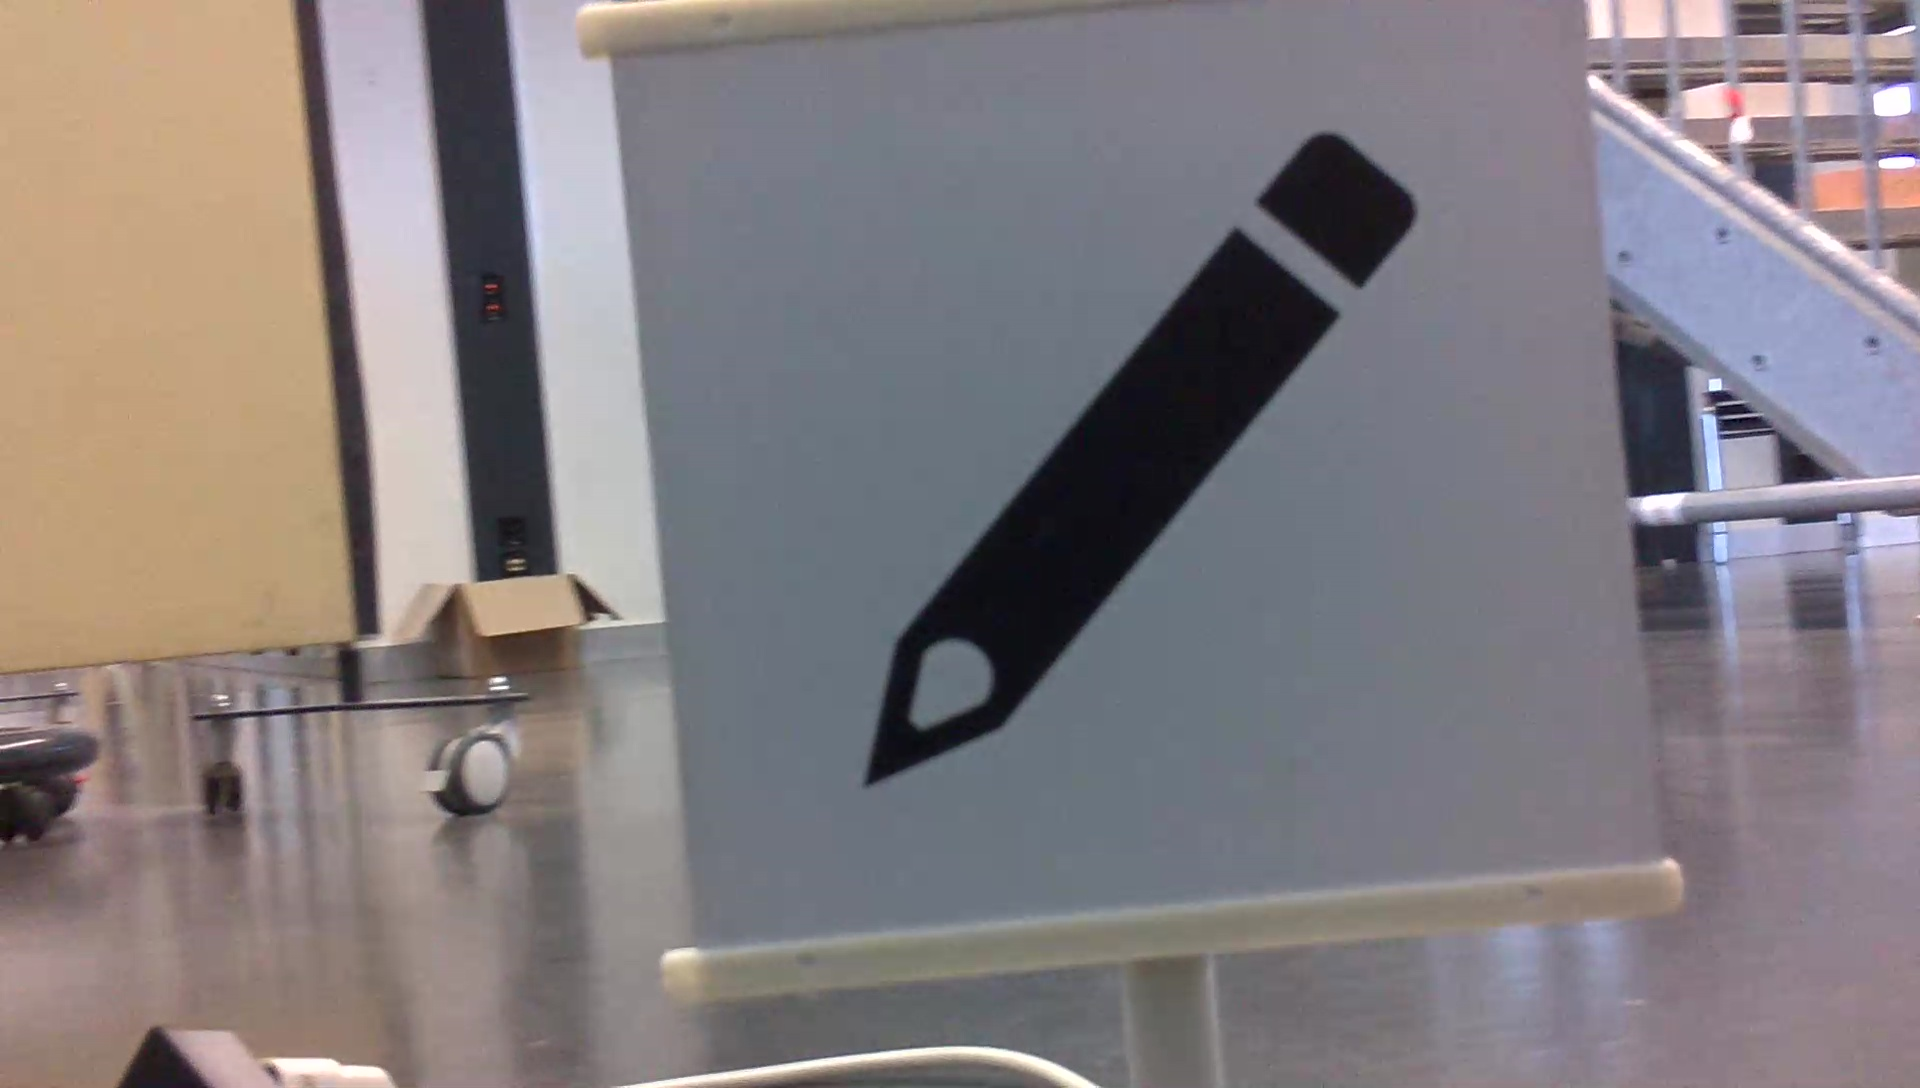pencil: (814, 116, 1440, 803)
